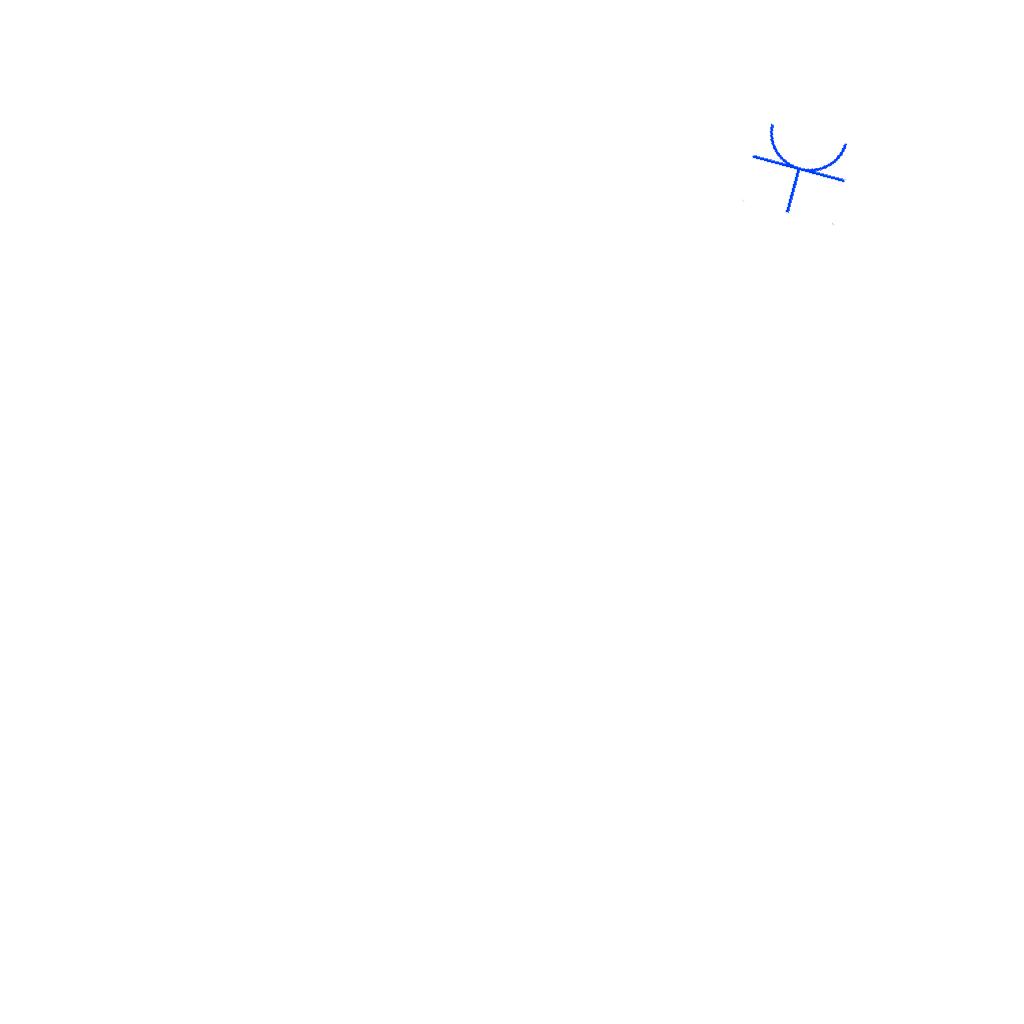Schukosteckdose_einfach: (739, 116, 859, 227)
